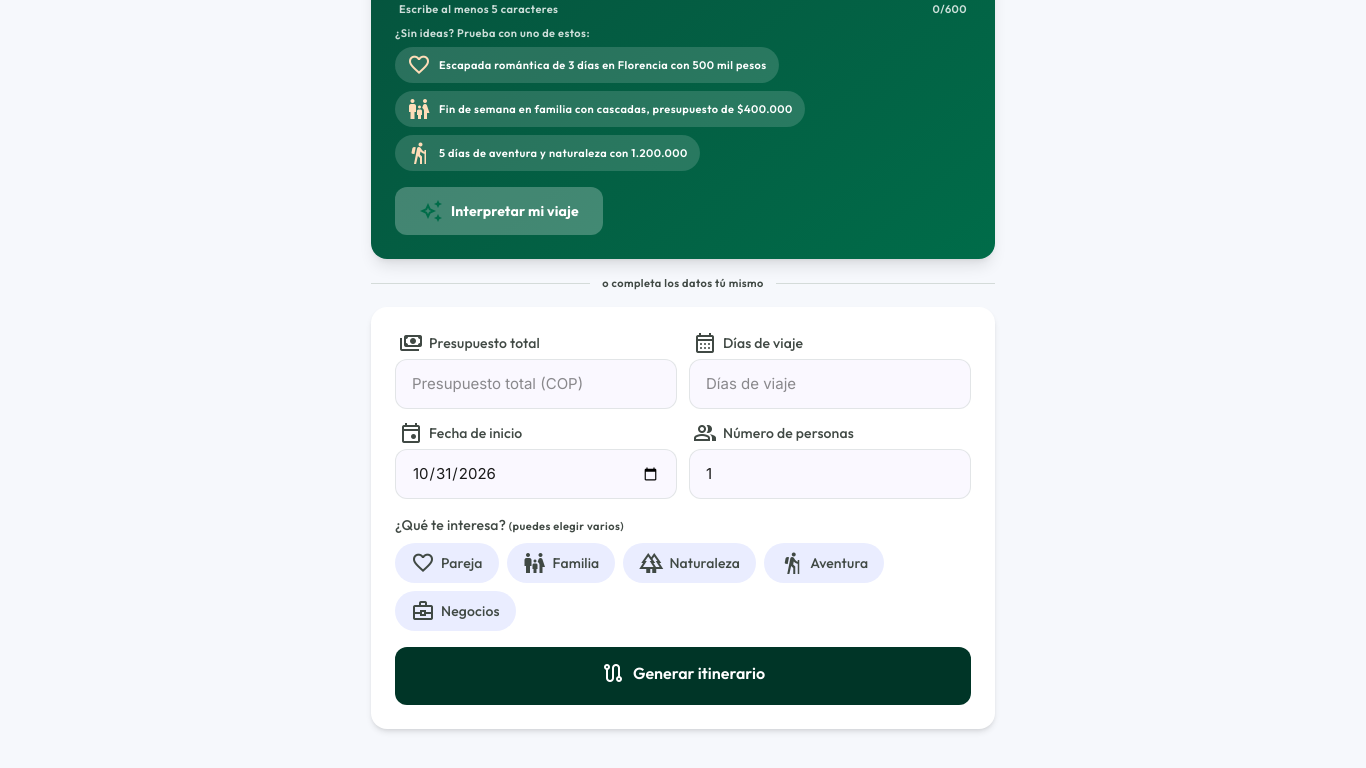
Scenario: Itinerario: resultado › cambiar las personas recalcula los precios y el total
The width and height of the screenshot is (1366, 768).
(page scrolled)
Type "200000" into the number field with placeholder "Presupuesto total (COP)" at point(536, 384), box [395,359,677,409]
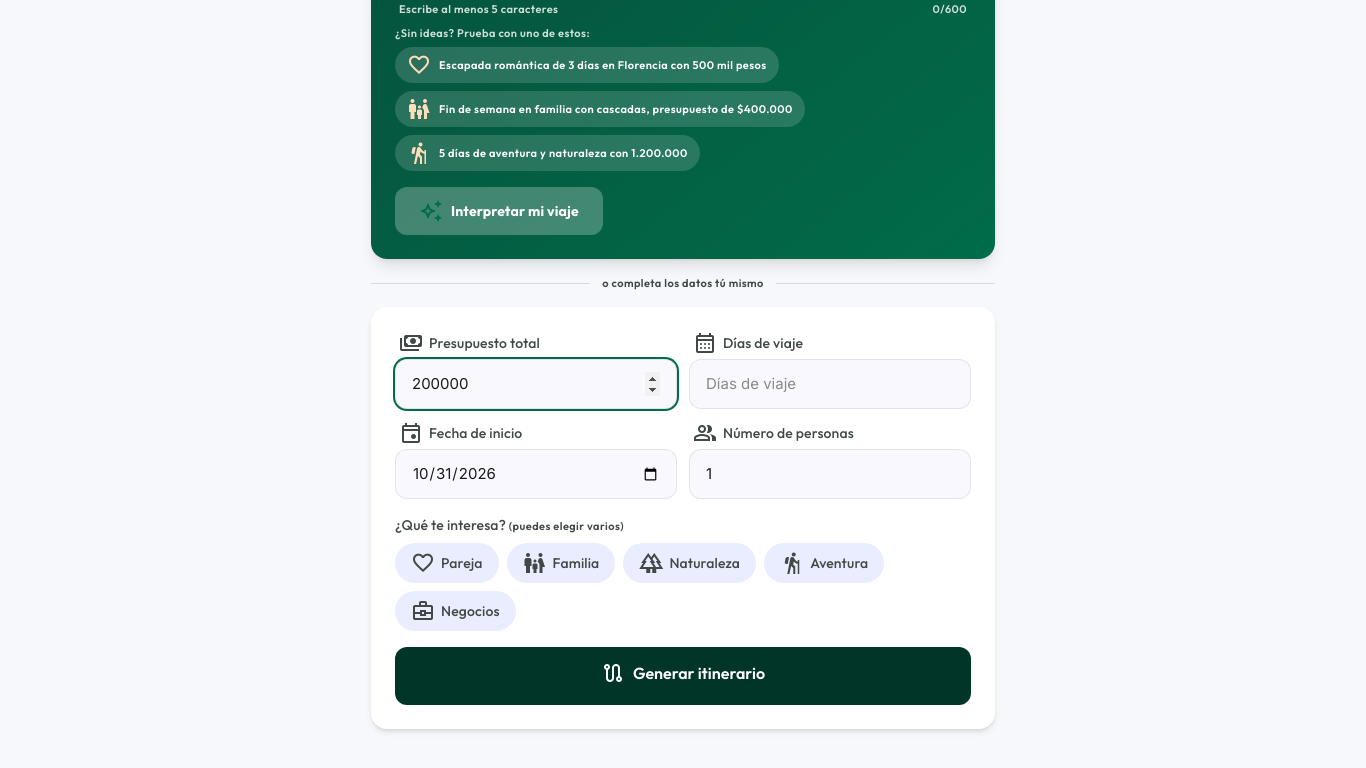
Type "2" into the number field with placeholder "Días de viaje" at point(830, 384), box [689,359,971,409]
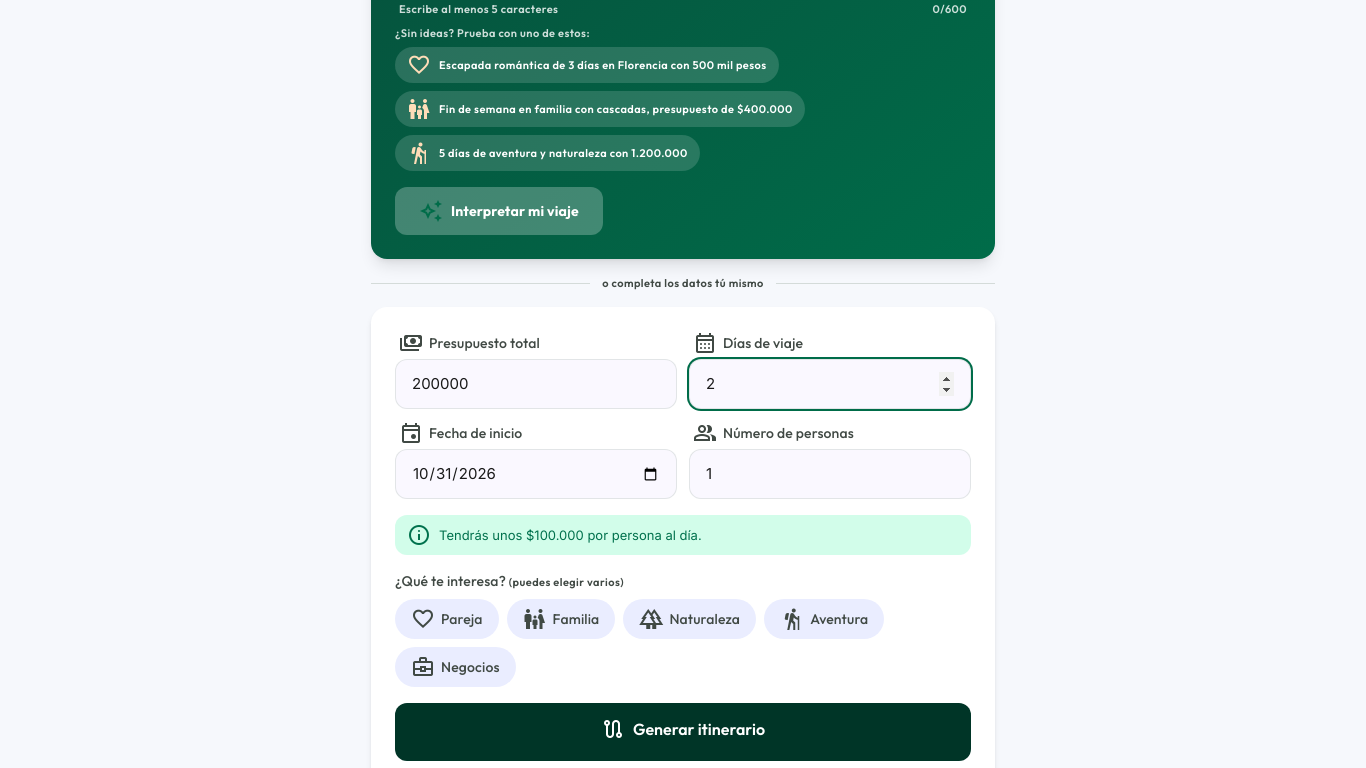
Click the button "Generar itinerario" at point(683, 732), box [395,703,971,761]
(page scrolled)
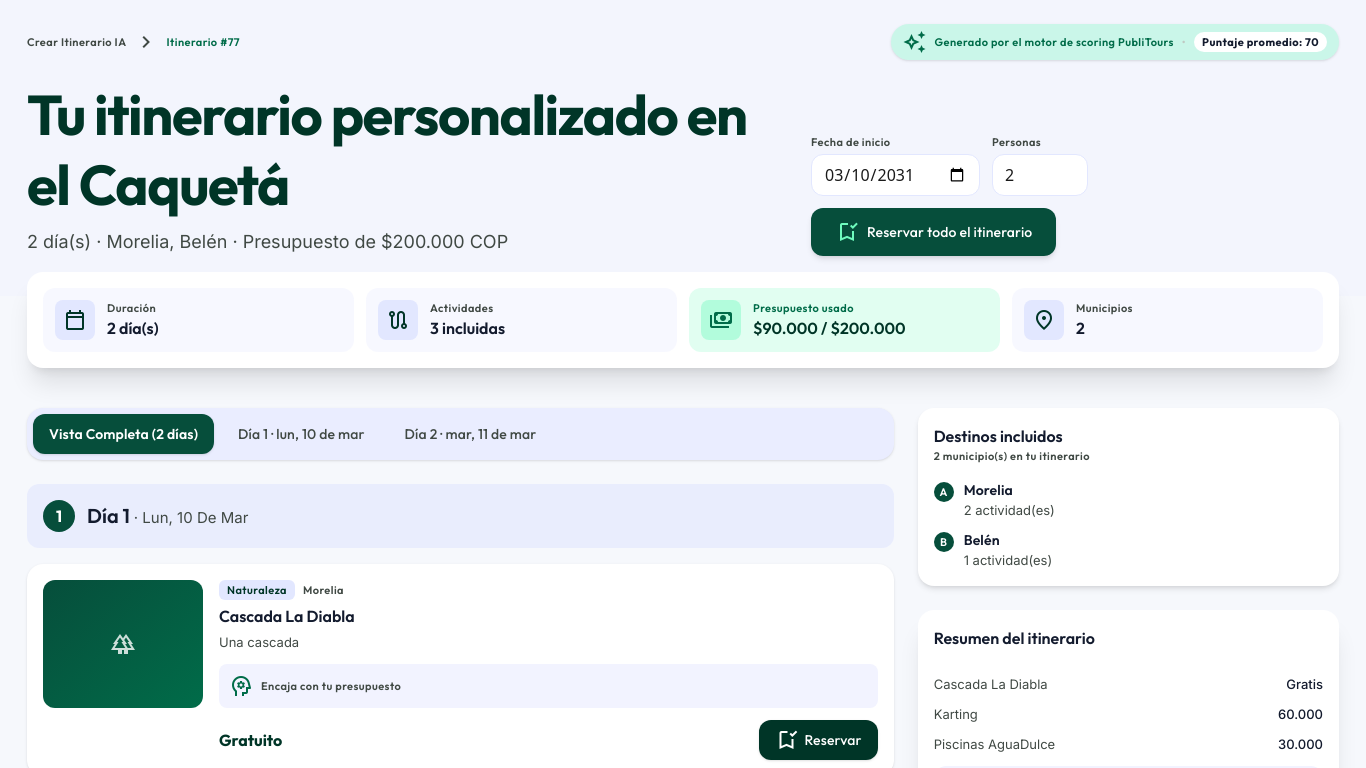
Expected: the heading "Tu itinerario personalizado en el Caquetá" is shown, [27,80,795,220]
Replace the text in the number field showing "2" with "3" at point(1040, 175), box [992,154,1088,196]
(page scrolled)
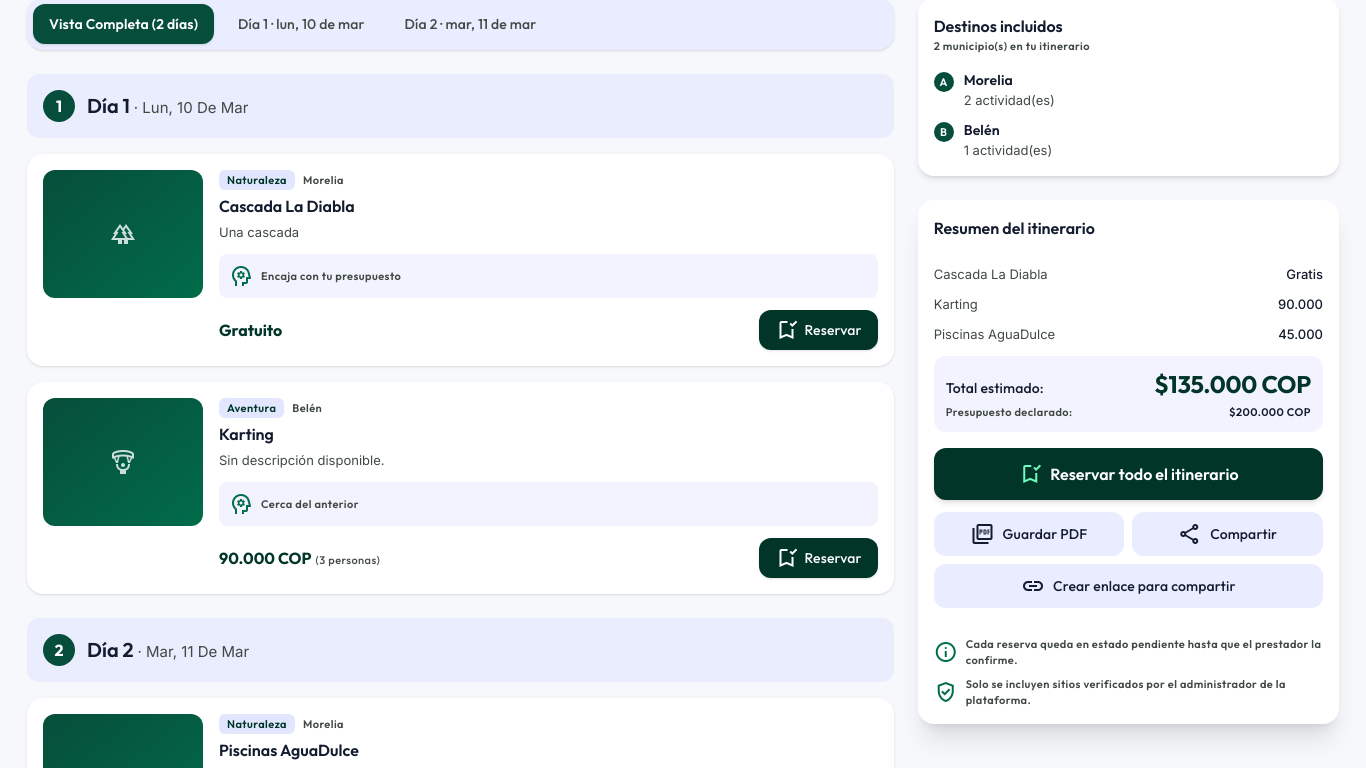
Expected: the text "90.000 COP" is shown, [219,548,312,568]
Expected: the text "$135.000 COP" is shown, [1154,368,1311,400]
